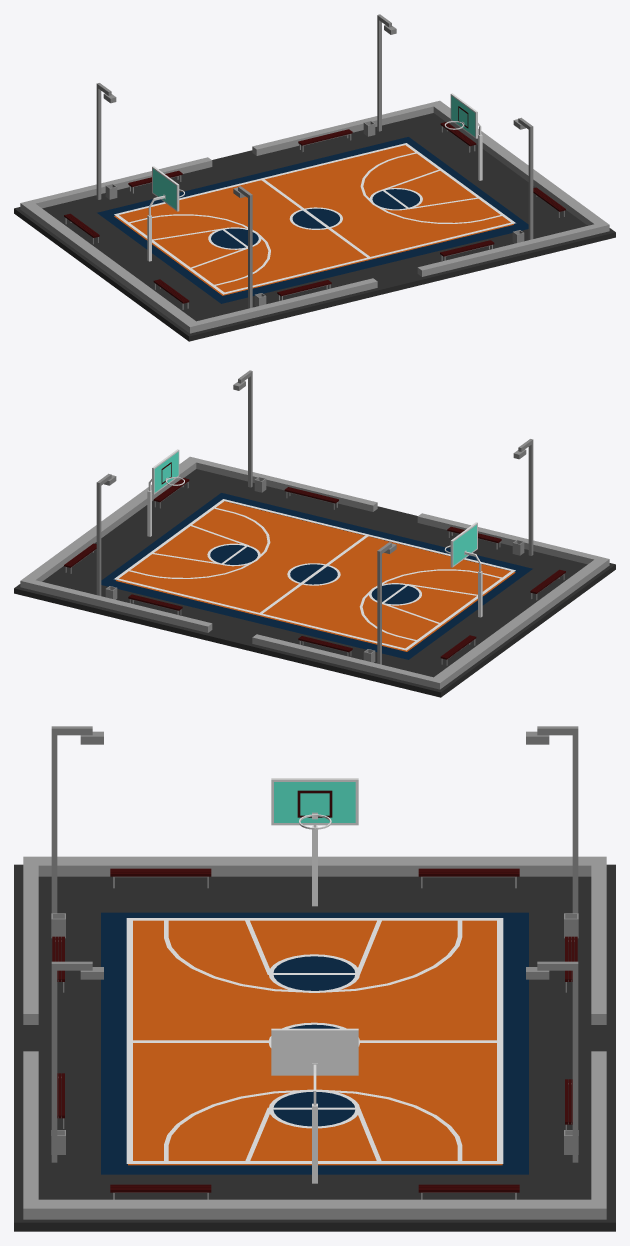
The model's file is Building_Basketball.fbx.
The picture shows the model from 3 angles, top to bottom: view 1: azimuth 30°, elevation 25°; view 2: azimuth 150°, elevation 25°; view 3: azimuth 270°, elevation 25°; orthographic projection. The views are drawn at different scales.
Parts seen in each view (by area): view 1: Building_Basketball; view 2: Building_Basketball; view 3: Building_Basketball.
Part boxes in pixels (left/top/right/bottom): Building_Basketball: left=14, top=14, right=615, bottom=341; Building_Basketball: left=14, top=370, right=615, bottom=697; Building_Basketball: left=14, top=726, right=615, bottom=1231.
Size of the model in its own units: 355 by 95.89 by 252.
